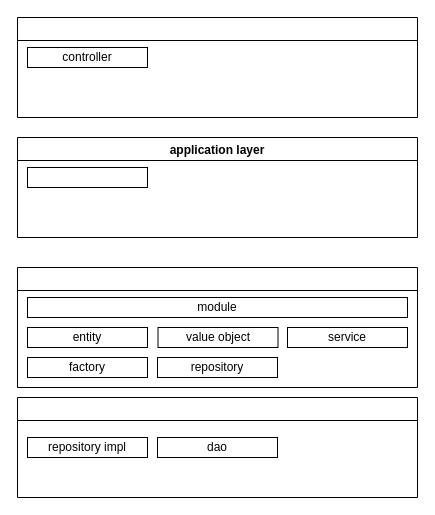
Some shapes in this 435 by 515 pixel diagram are drawn without their labels. Here are the shapes that lost their labels. From the top down, the box of each, then its label:
(16, 16, 418, 118): interface layer
(26, 166, 148, 188): application service
(16, 266, 418, 388): domain layer
(16, 396, 418, 498): infrustructure layer
